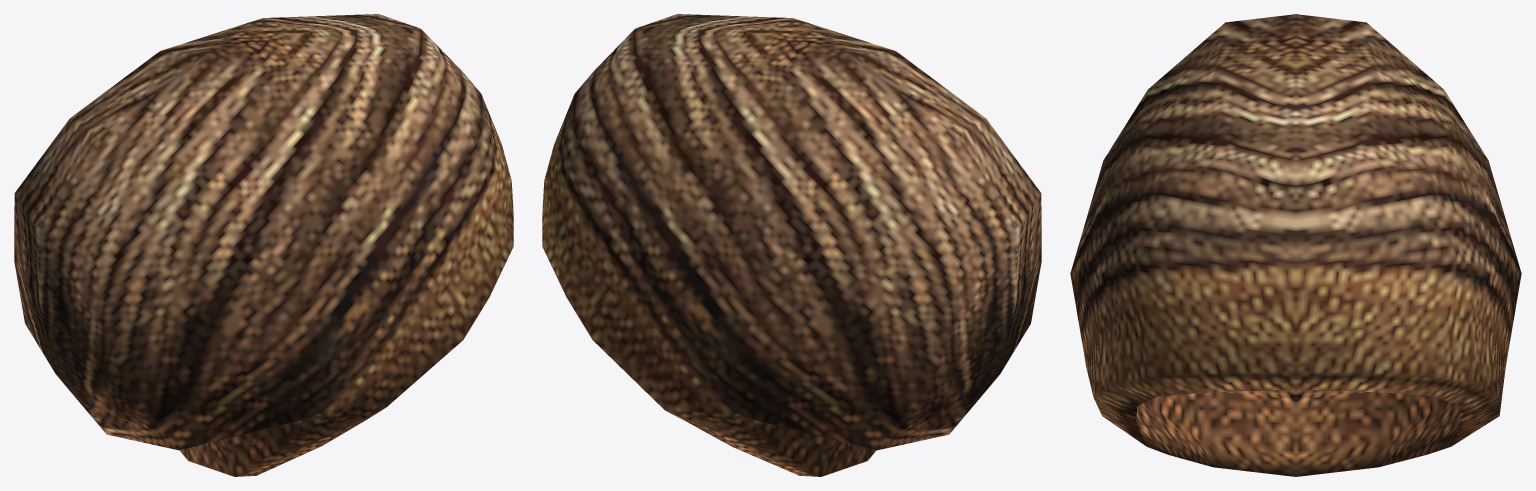
File: hat_0400043.FBX
3 renders of one model, left to right at view 1: azimuth 30°, elevation 25°; view 2: azimuth 150°, elevation 25°; view 3: azimuth 270°, elevation 25°, orthographic. The views are drawn at different scales.
Parts seen in each view (by area): view 1: hat_0400043; view 2: hat_0400043; view 3: hat_0400043.
Part boxes in pixels (left/top/right/bottom): hat_0400043: left=14, top=14, right=513, bottom=476; hat_0400043: left=542, top=14, right=1041, bottom=476; hat_0400043: left=1070, top=14, right=1521, bottom=476.
Bounding box in the file's own units: 32.97 × 28.79 × 25.58.
